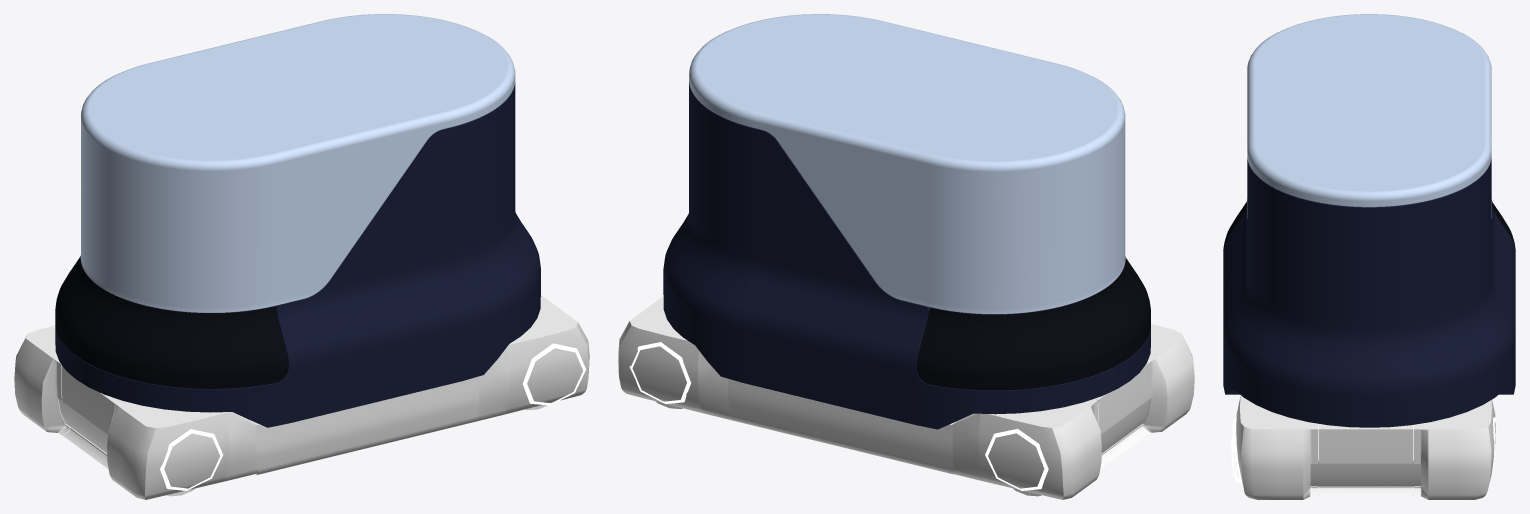
Rendered from boy.gltf.
3 renders of one model, left to right at view 1: azimuth 30°, elevation 25°; view 2: azimuth 150°, elevation 25°; view 3: azimuth 270°, elevation 25°, orthographic. The views are drawn at different scales.
Visible parts, largest first — view 1: 모듈, Car_module_1_obj_3, object_6; view 2: 모듈, Car_module_1_obj_3; view 3: 모듈, Car_module_1_obj_3, object_6.
Part boxes in pixels (left/top/right/bottom): 모듈: left=55, top=14, right=540, bottom=427; Car_module_1_obj_3: left=14, top=295, right=589, bottom=499; object_6: left=522, top=343, right=586, bottom=405; 모듈: left=663, top=14, right=1150, bottom=429; Car_module_1_obj_3: left=618, top=296, right=1194, bottom=499; 모듈: left=1223, top=14, right=1515, bottom=427; Car_module_1_obj_3: left=1236, top=395, right=1496, bottom=499; object_6: left=1231, top=419, right=1242, bottom=482.
Size of what is drawn, in the model's own units: 1.96 by 1.32 by 1.16.
